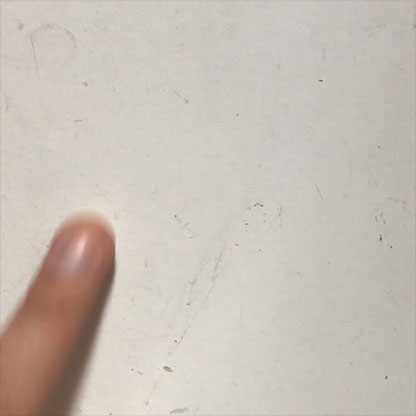fingertip: (41, 207, 126, 285)
